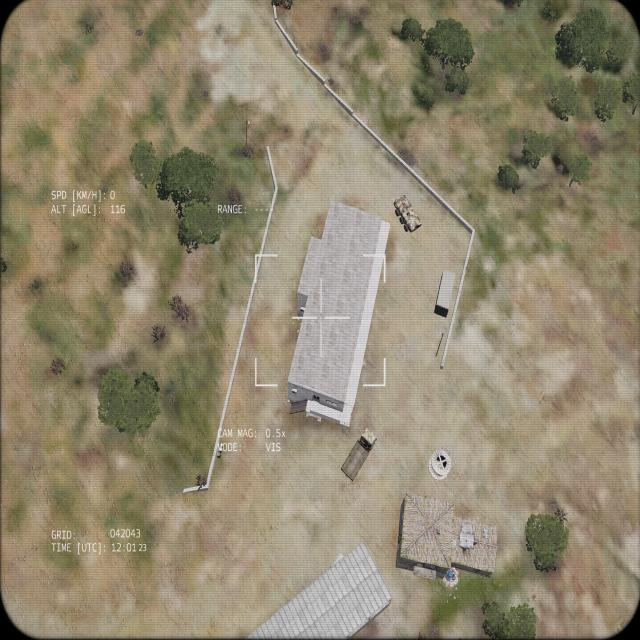apc: (392, 195, 421, 233)
truck: (339, 426, 377, 481)
